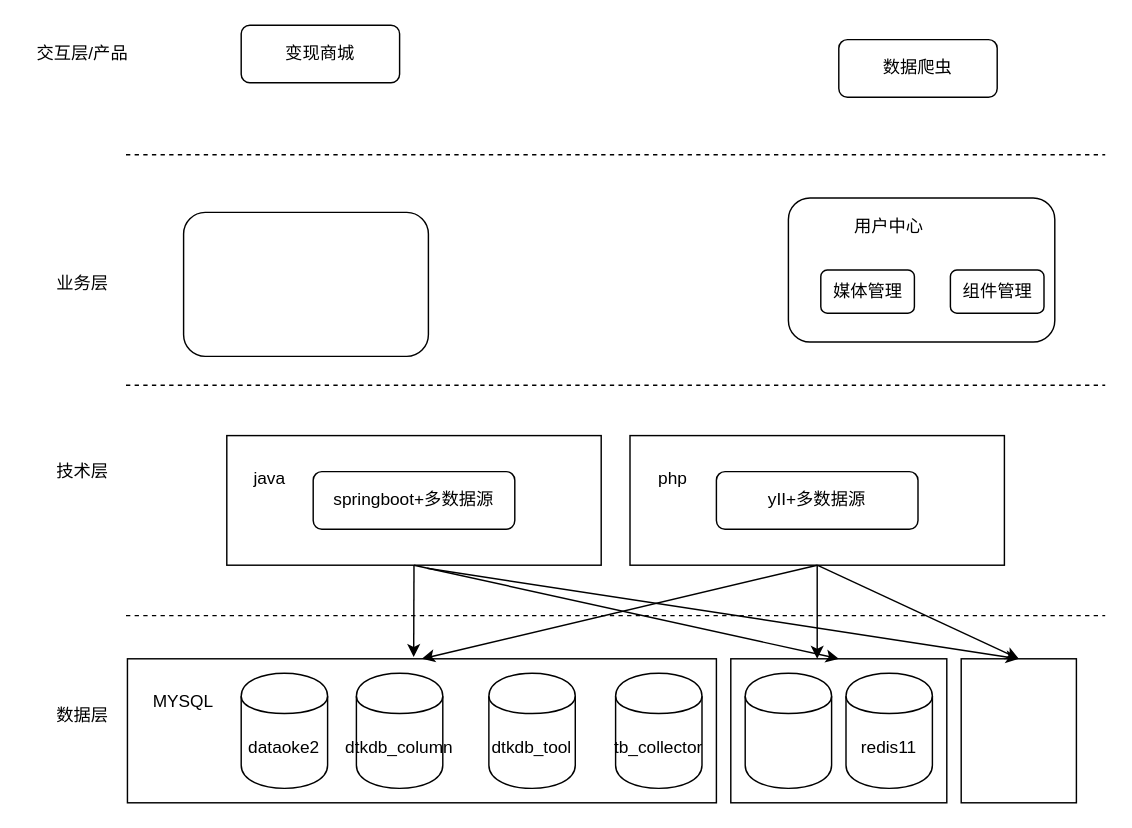
Some shapes in this 1132 by 828 pixel diagram are drawn without their labels. The shapes that lost their labels are listed below. From the top down, each one's centre as x and y in pixels, then its label:
At pixel 305 283: "商品库".
At pixel 788 730: "redis9".
At pixel 1018 730: "ES2.X".
